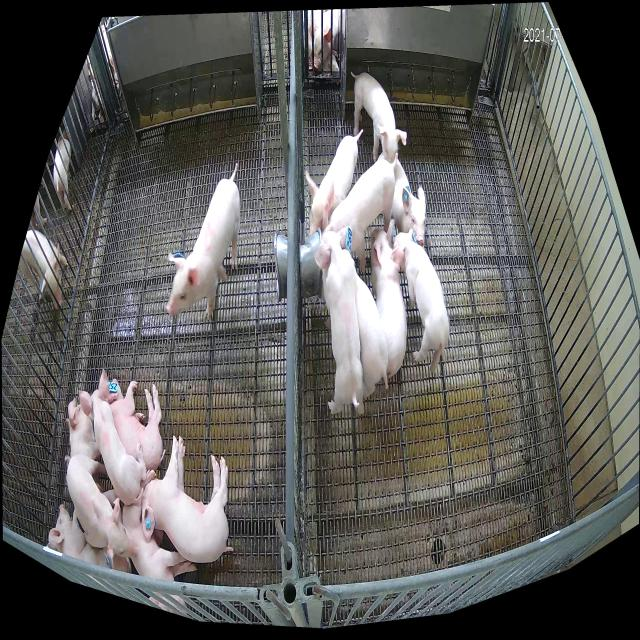pig: (142, 435, 233, 564), (164, 169, 240, 319), (322, 153, 398, 276), (80, 368, 147, 506), (315, 226, 364, 414), (389, 229, 450, 374), (123, 496, 196, 615), (67, 454, 138, 569), (304, 129, 363, 236), (47, 505, 132, 573), (370, 223, 407, 377), (106, 379, 164, 468), (354, 73, 406, 162), (357, 275, 388, 399), (392, 158, 426, 247), (66, 398, 100, 459)
